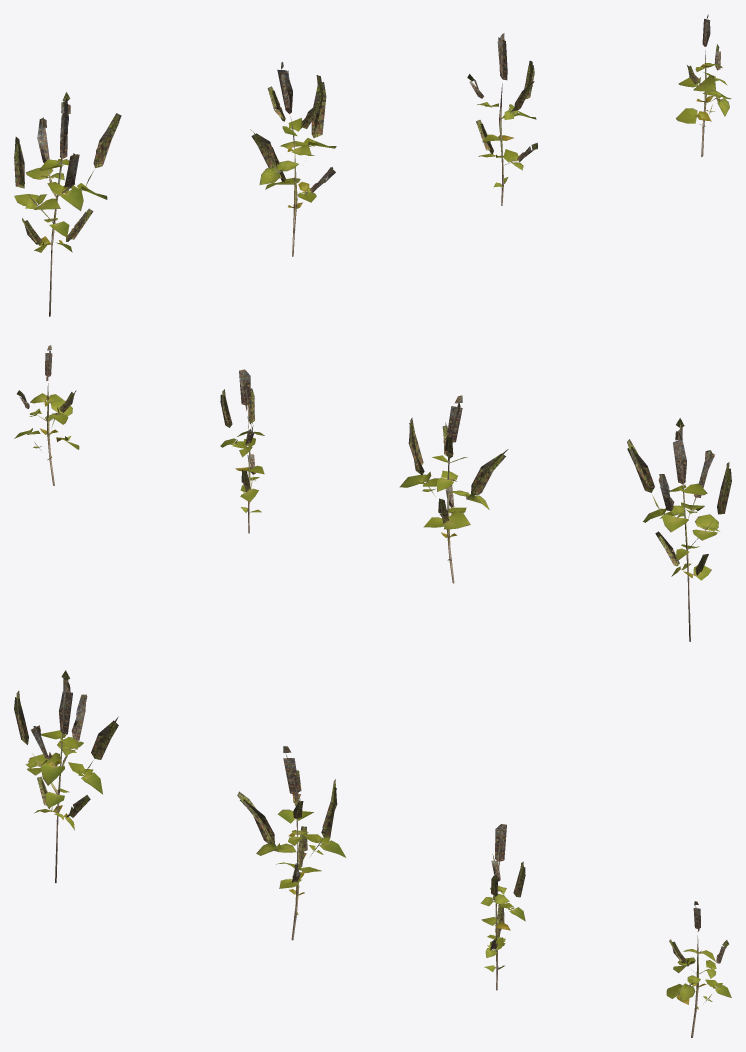
Rendered from shrub_lo.glb.
The picture shows the model from 3 angles, top to bottom: view 1: azimuth 30°, elevation 25°; view 2: azimuth 150°, elevation 25°; view 3: azimuth 330°, elevation 25°; orthographic projection. The views are drawn at different scales.
Parts seen in each view (by area): view 1: shrub_03_a, shrub_03_b, shrub_03_c, shrub_03_d; view 2: shrub_03_a, shrub_03_b, shrub_03_c, shrub_03_d; view 3: shrub_03_a, shrub_03_b, shrub_03_c, shrub_03_d.
Boxes of the visible parts, x1,y1,x2,y2 form: shrub_03_a: (14,92,121,316); shrub_03_b: (250,62,336,256); shrub_03_c: (467,33,537,205); shrub_03_d: (676,14,731,156); shrub_03_a: (627,418,731,641); shrub_03_b: (399,395,508,583); shrub_03_c: (220,369,264,533); shrub_03_d: (14,345,79,485); shrub_03_a: (14,670,118,882); shrub_03_b: (237,746,346,940); shrub_03_c: (480,824,525,990); shrub_03_d: (666,901,731,1037).
Bounding box in the file's own units: 1.37 × 0.403 × 0.1507.
1 material, 1 textured.
